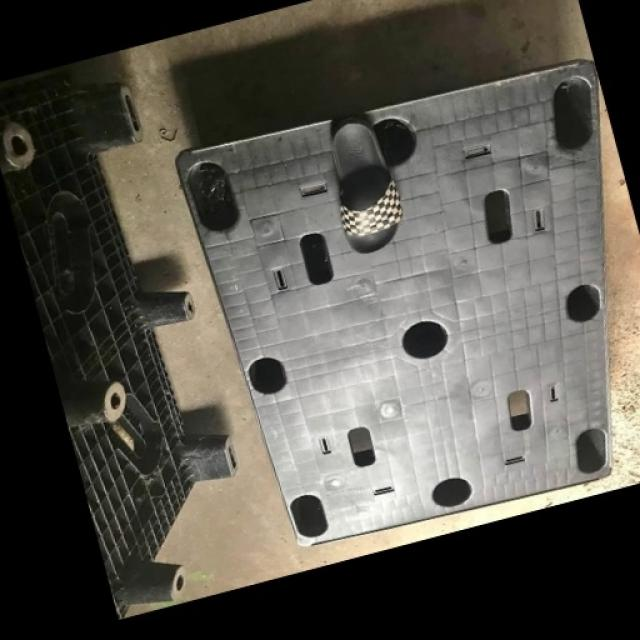non-igps: (171, 52, 638, 553), (0, 66, 244, 624)
